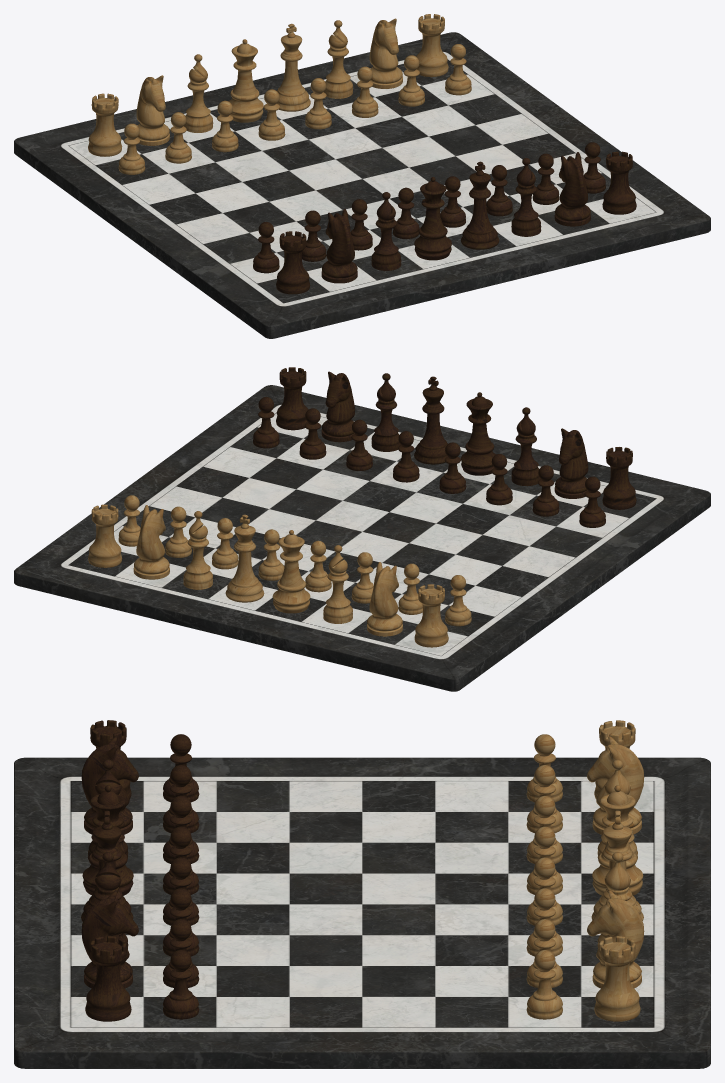
File: chess_set_4k.gltf
3 renders of one model, top to bottom at view 1: azimuth 30°, elevation 25°; view 2: azimuth 150°, elevation 25°; view 3: azimuth 270°, elevation 25°, orthographic. The views are drawn at different scales.
Visible parts, largest first — view 1: board, piece_queen_black, piece_knight_black_01, piece_knight_black_02, piece_queen_white, piece_knight_white_02, piece_knight_white_01, piece_king_black, piece_king_white, piece_rook_black_01, piece_rook_black_02, piece_rook_white_02 (+21 smaller); view 2: board, piece_queen_white, piece_knight_white_01, piece_knight_white_02, piece_queen_black, piece_knight_black_01, piece_king_white, piece_knight_black_02, piece_king_black, piece_rook_white_02, piece_rook_black_01, piece_rook_white_01 (+21 smaller); view 3: board, piece_rook_black_02, piece_rook_white_01, piece_knight_black_02, piece_knight_white_01, piece_knight_black_01, piece_knight_white_02, piece_queen_white, piece_queen_black, piece_pawn_white_01, piece_pawn_black_08, piece_king_black (+21 smaller).
Boxes of the visible parts, box(x1,y1,x2,y2) form: board: box(14, 32, 710, 338); piece_queen_black: box(414, 177, 451, 260); piece_knight_black_01: box(321, 209, 357, 283); piece_knight_black_02: box(554, 152, 590, 226); piece_queen_white: box(228, 39, 263, 122); piece_knight_white_02: box(136, 75, 169, 145); piece_knight_white_01: box(369, 18, 402, 88); piece_king_black: box(461, 161, 499, 249); piece_king_white: box(277, 23, 310, 111); piece_rook_black_01: box(276, 231, 310, 294); piece_rook_black_02: box(602, 151, 636, 214); piece_rook_white_02: box(88, 93, 122, 156); board: box(14, 385, 710, 691); piece_queen_white: box(272, 530, 310, 613); piece_knight_white_01: box(133, 505, 169, 579); piece_knight_white_02: box(367, 562, 402, 636); piece_queen_black: box(461, 392, 495, 475); piece_knight_black_01: box(554, 428, 588, 498); piece_king_white: box(225, 514, 264, 602); piece_knight_black_02: box(321, 371, 354, 442); piece_king_black: box(414, 376, 447, 464); piece_rook_white_02: box(414, 584, 448, 647); piece_rook_black_01: box(602, 447, 636, 509); piece_rook_white_01: box(88, 504, 122, 567); board: box(14, 757, 710, 1068); piece_rook_black_02: box(85, 936, 131, 1021); piece_rook_white_01: box(594, 936, 640, 1021); piece_knight_black_02: box(81, 890, 138, 988); piece_knight_white_01: box(587, 890, 644, 988); piece_knight_black_01: box(81, 736, 138, 834); piece_knight_white_02: box(587, 736, 644, 834); piece_queen_white: box(592, 785, 643, 895); piece_queen_black: box(82, 785, 133, 895); piece_pawn_white_01: box(526, 950, 562, 1019); piece_pawn_black_08: box(163, 950, 199, 1019); piece_king_black: box(81, 810, 133, 921).
Bounding box in the file's own units: 0.5532 × 0.1124 × 0.5532.
3 materials, 3 textured.
